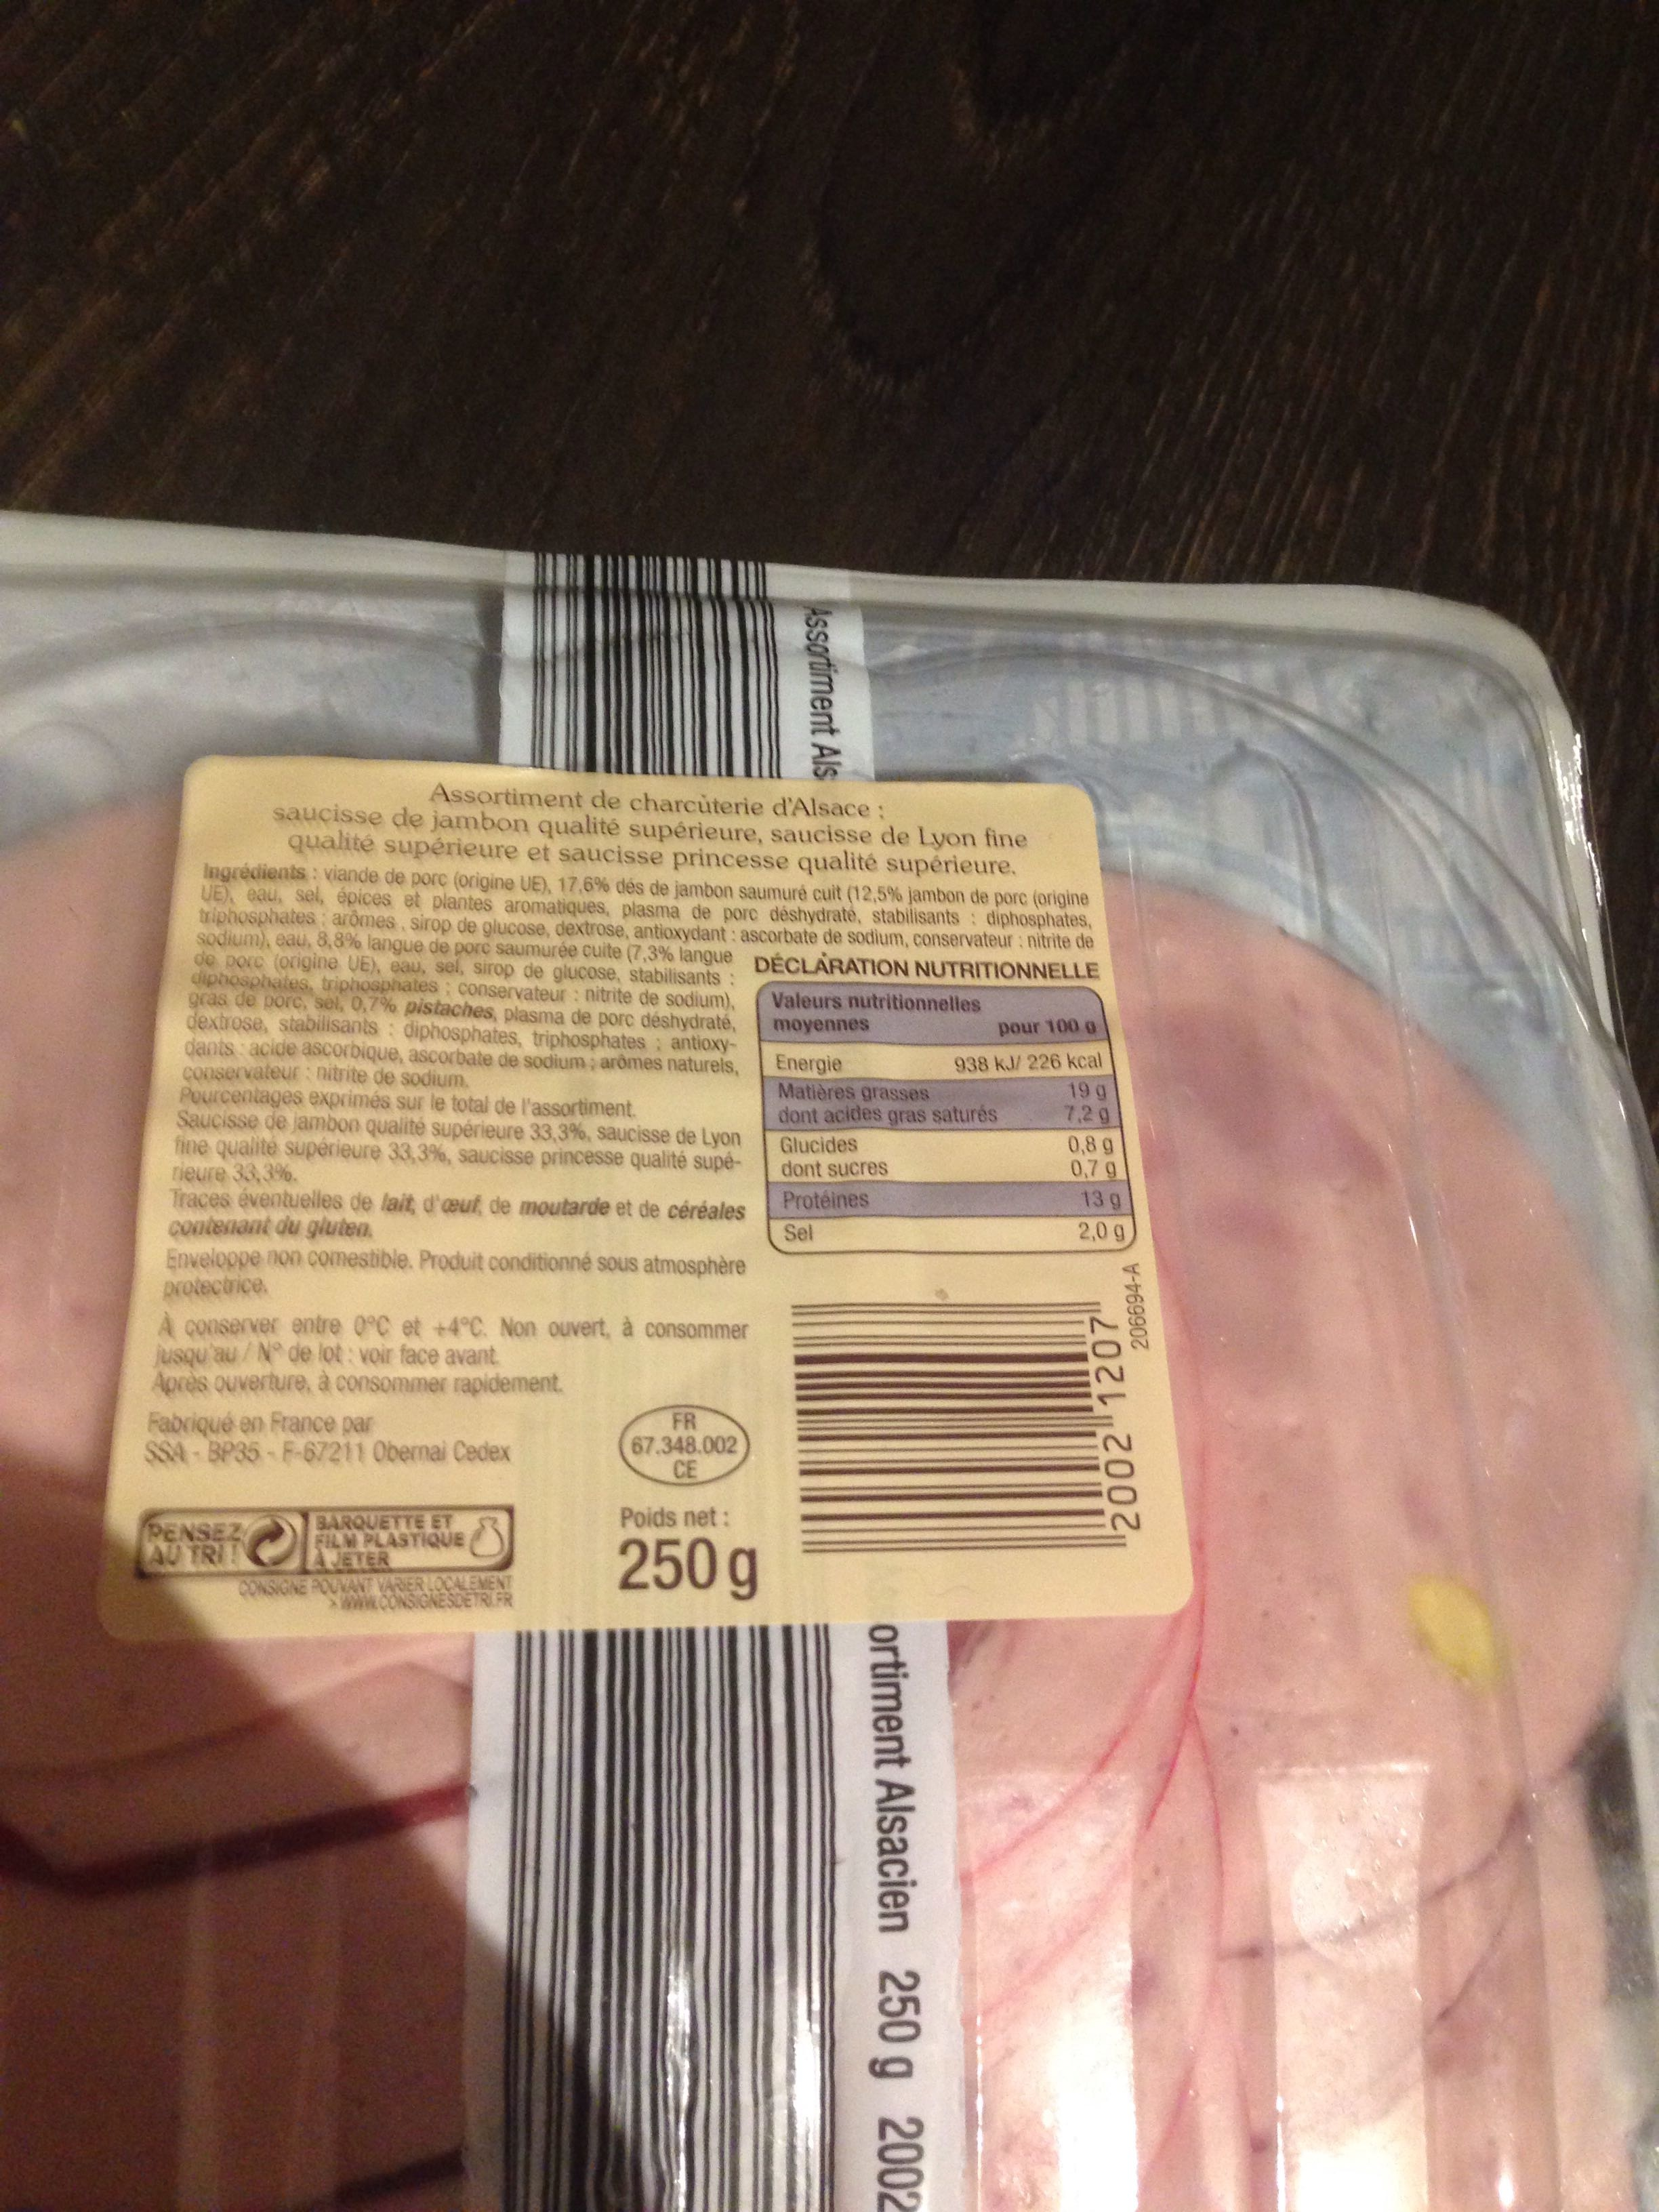column: (777, 1047, 995, 1244), (1026, 1050, 1127, 1242)
table: (760, 981, 1136, 1254)
